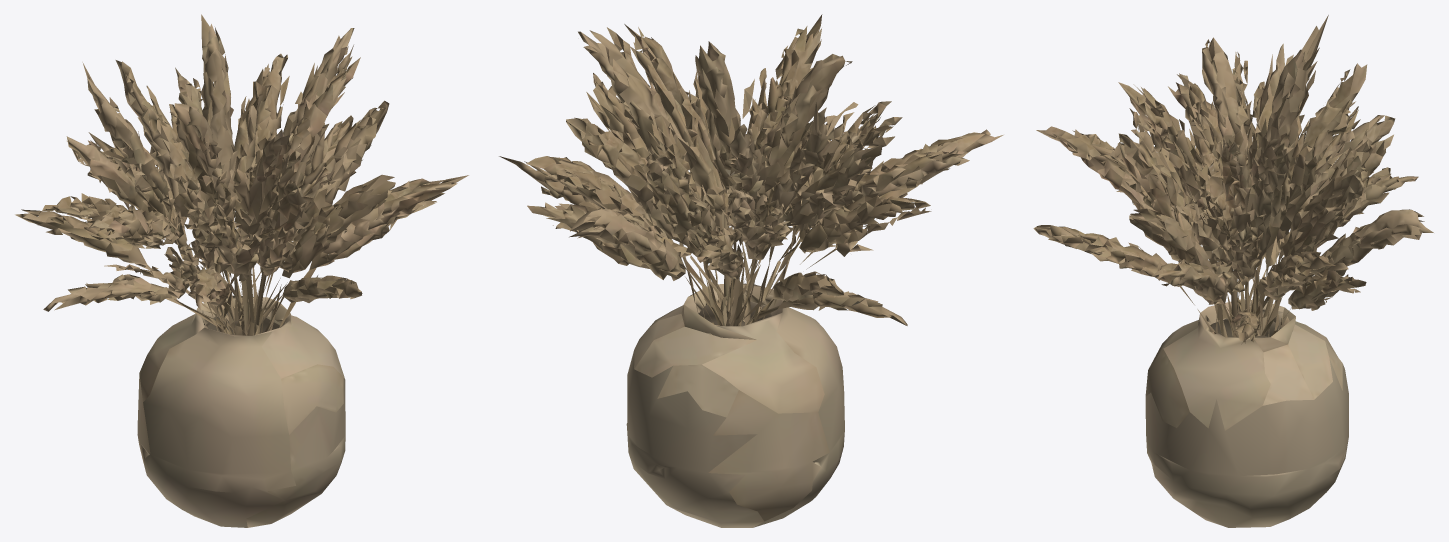
File: vase-dried-florals.glb
The picture shows the model from 3 angles, left to right: view 1: azimuth 30°, elevation 25°; view 2: azimuth 150°, elevation 25°; view 3: azimuth 270°, elevation 25°; orthographic projection. The views are drawn at different scales.
Visible parts, largest first — view 1: mesh_node; view 2: mesh_node; view 3: mesh_node.
Part boxes in pixels (x1,y1,x2,y2): mesh_node: (15,14,468,527); mesh_node: (499,14,1003,527); mesh_node: (1033,15,1433,527).
Size of the model in its own units: 1.79 by 1.89 by 1.5.
Materials: 1 (1 with a texture image).
